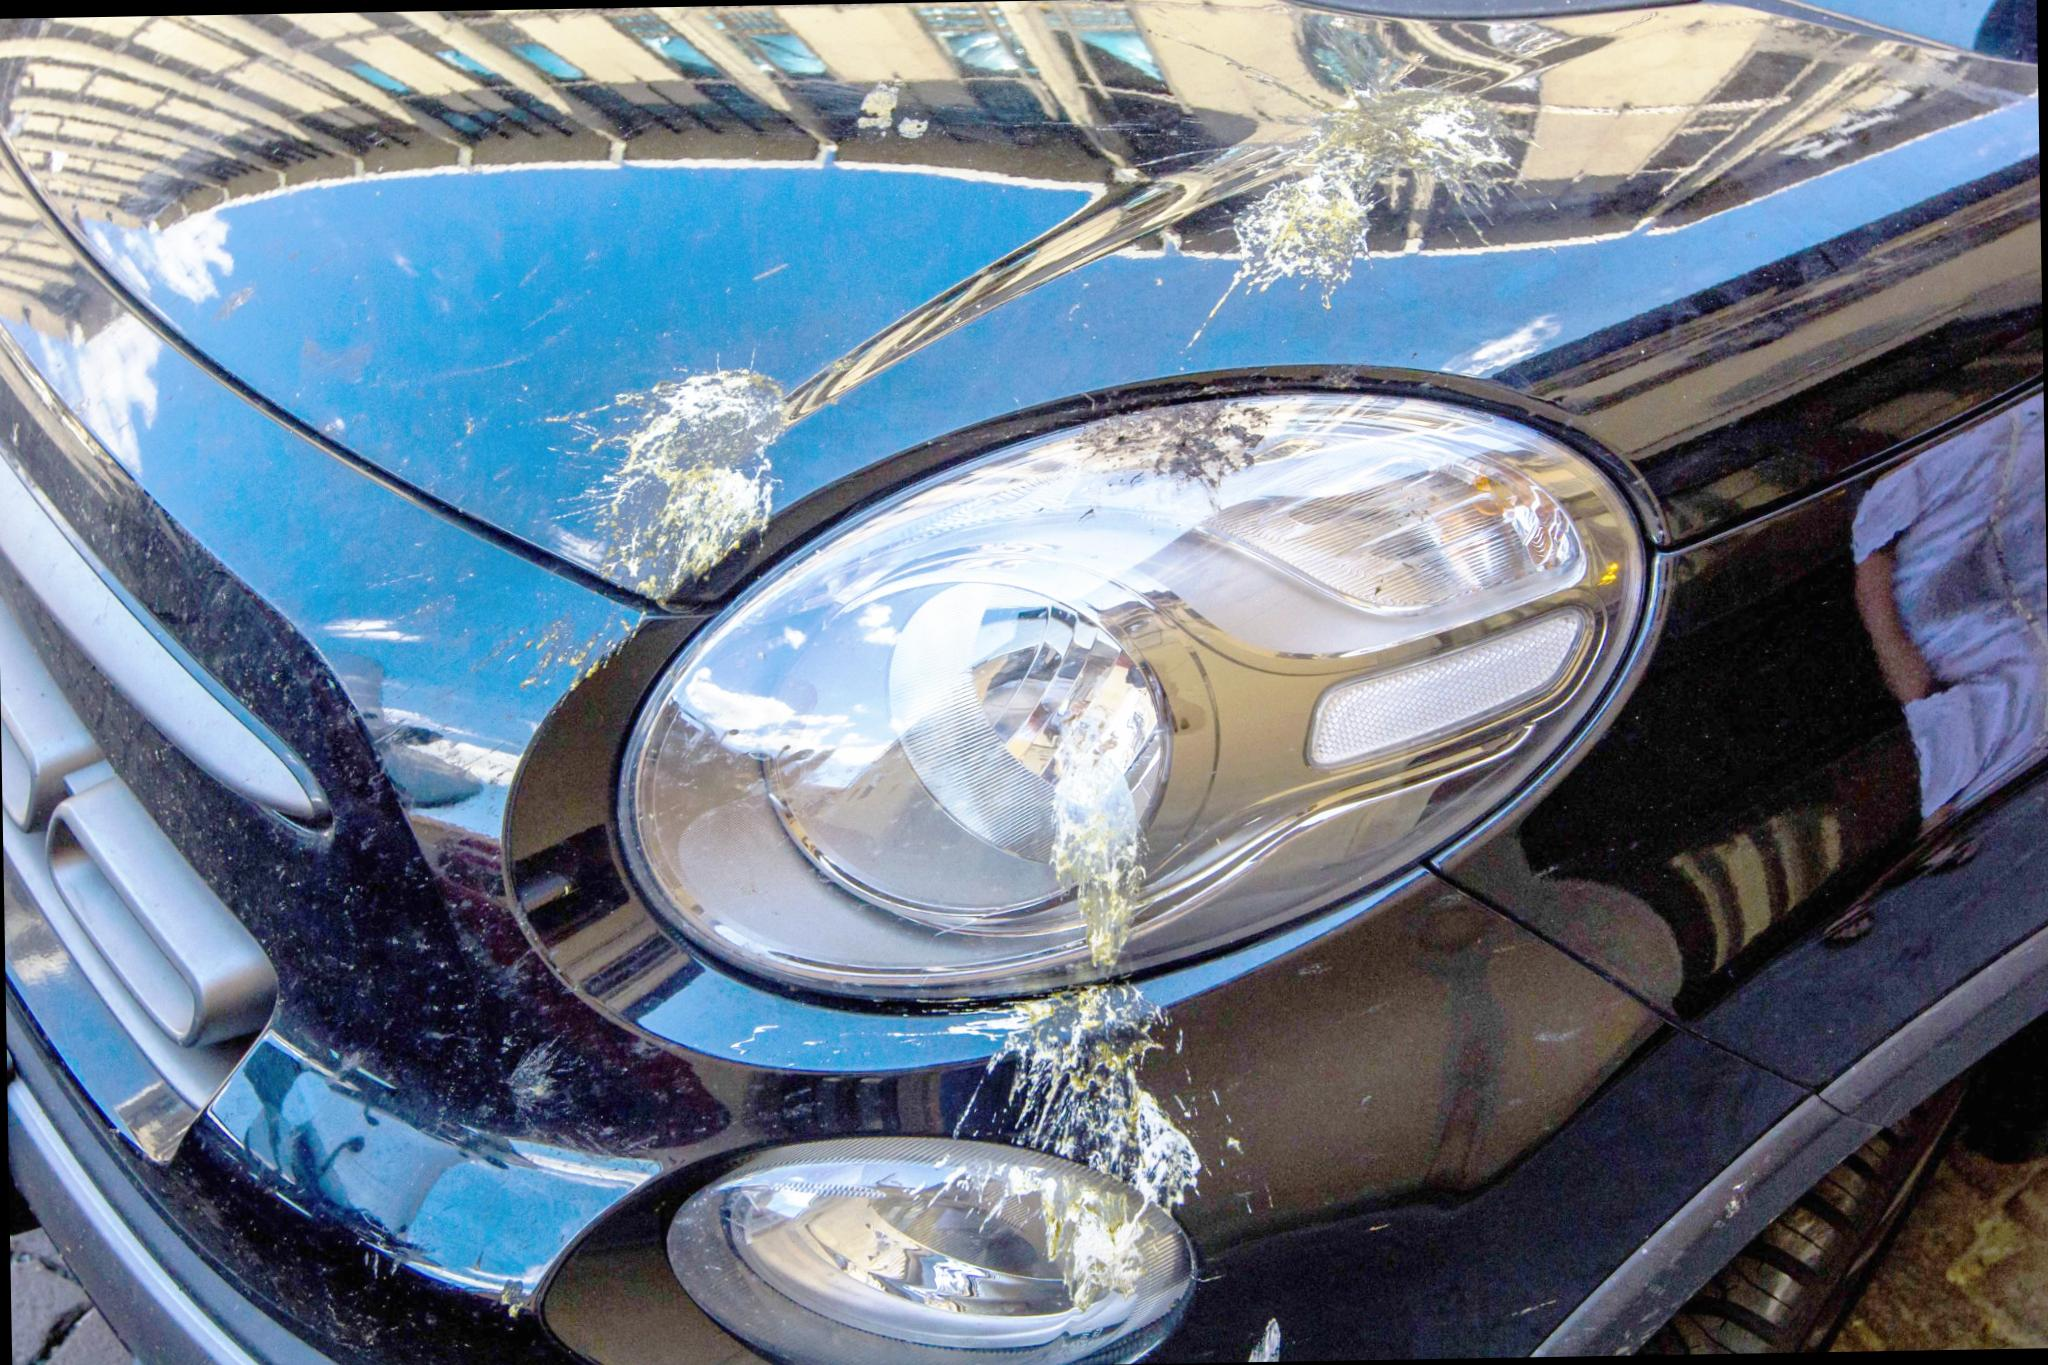Bird Poop: (955, 984, 1200, 1307), (1235, 84, 1510, 306), (550, 369, 787, 597), (1051, 719, 1142, 966), (857, 81, 929, 137), (509, 1048, 551, 1094), (501, 1278, 527, 1313)
